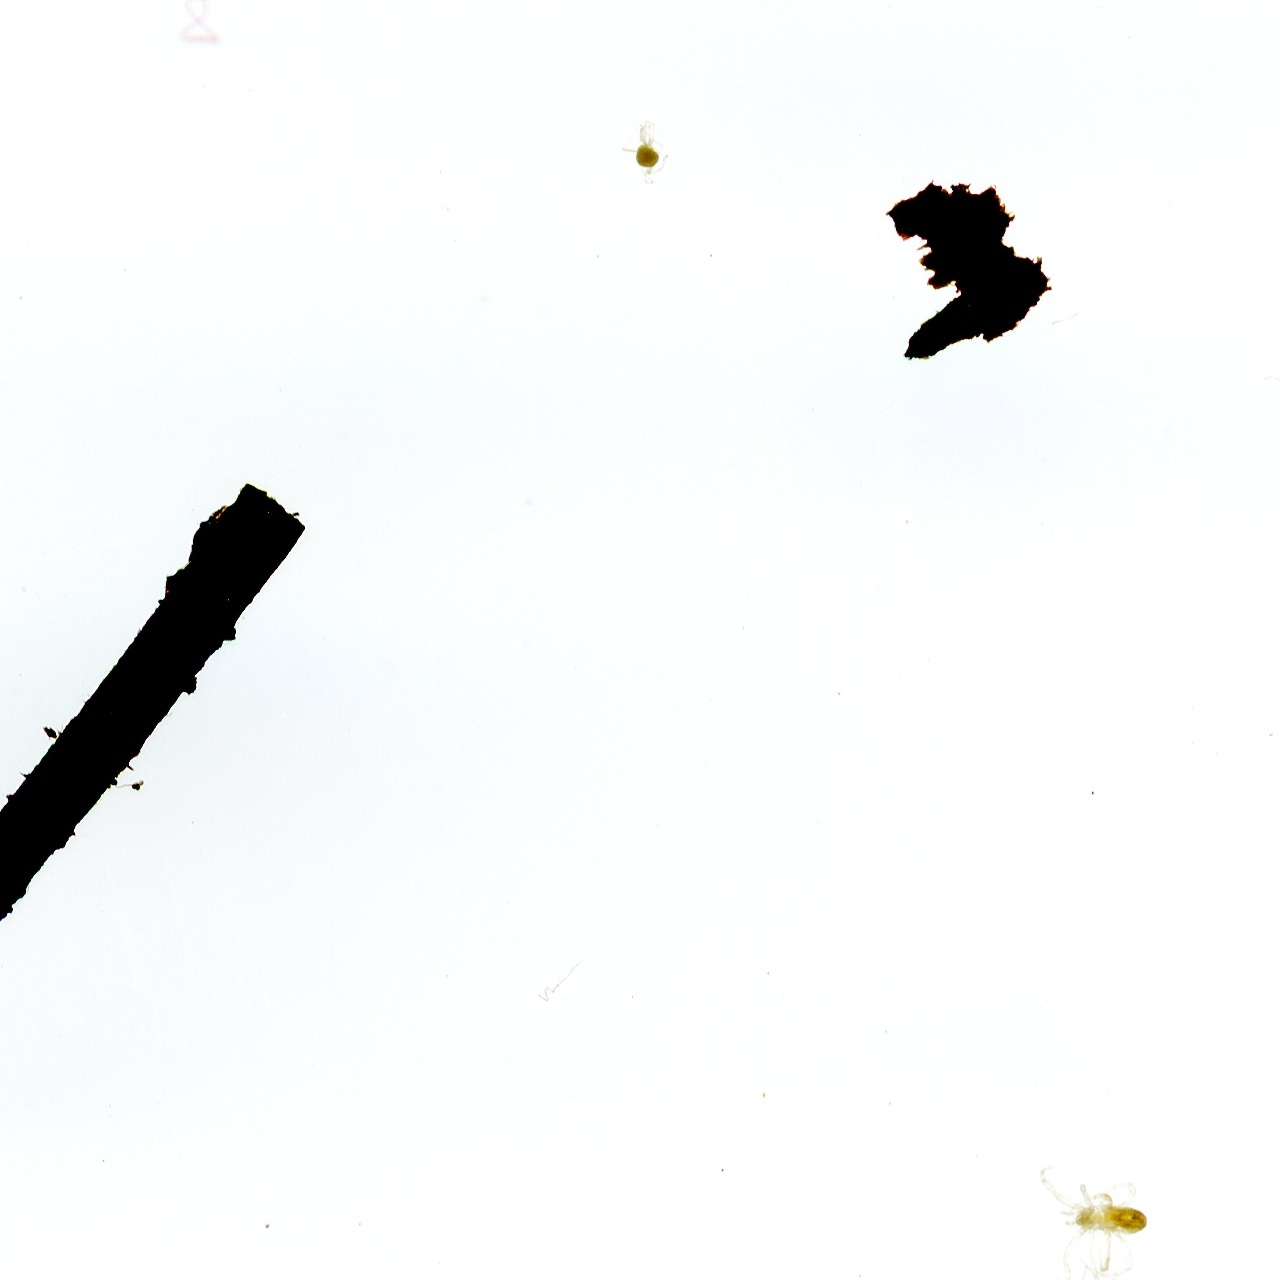arthropod: (1028, 1159, 1152, 1280), (617, 118, 669, 185)
